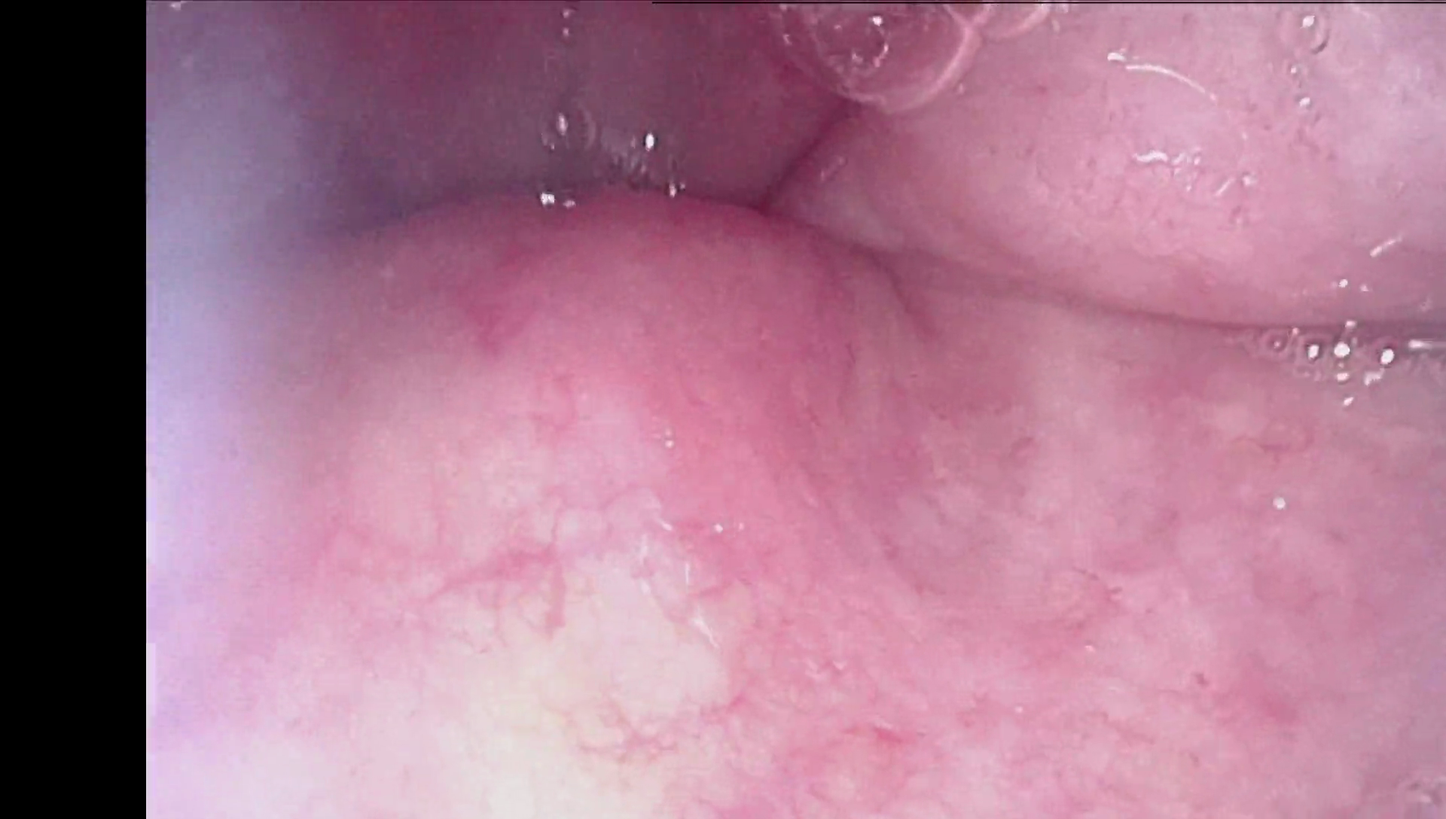close_wall: (204, 357, 1245, 819)
